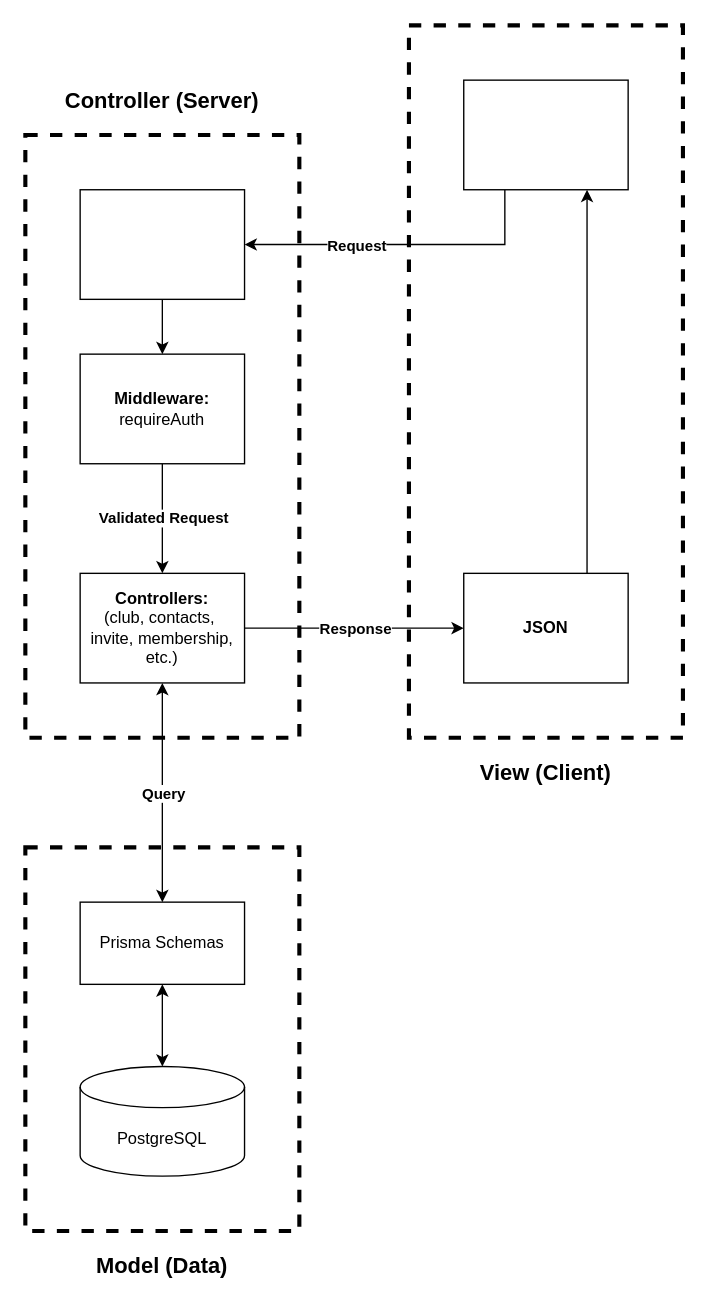
Some shapes in this 708 by 1310 pixel diagram are drawn without their labels. The shapes that lost their labels are listed below. From the top down, each one's centre as x and y in pixels, then its label:
At (545,134): "React UI".
At (162,243): "Express Router".
